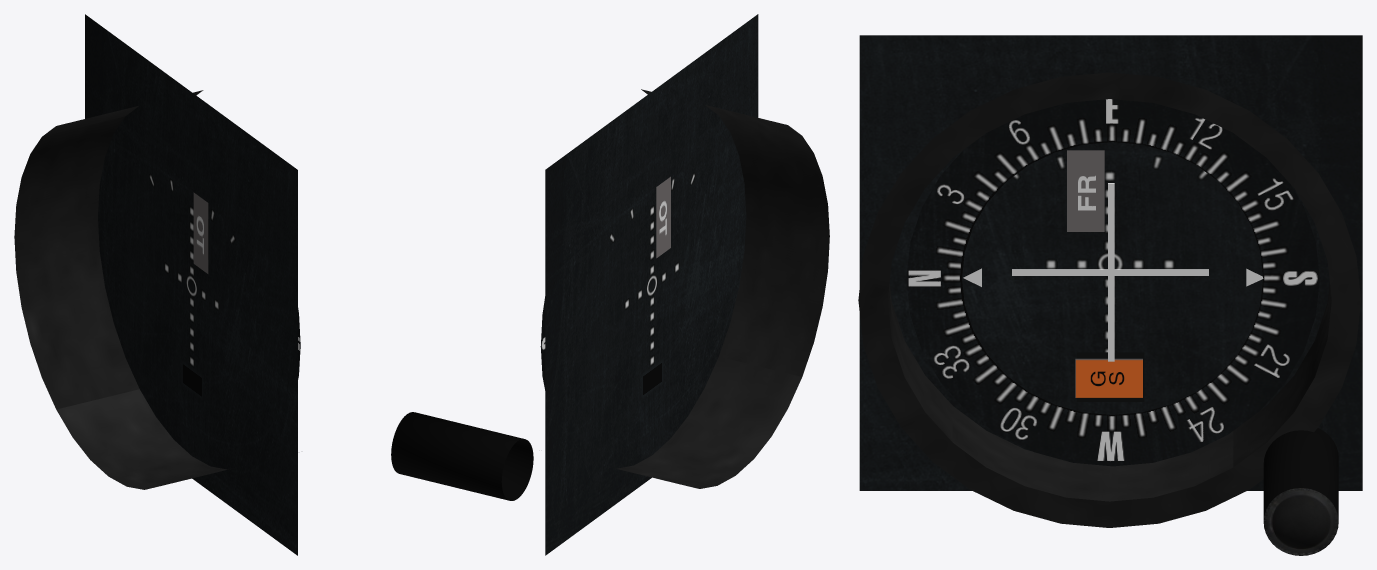
Rendered from vor2.gltf.
The picture shows the model from 3 angles, left to right: view 1: azimuth 30°, elevation 25°; view 2: azimuth 150°, elevation 25°; view 3: azimuth 270°, elevation 25°; orthographic projection. The views are drawn at different scales.
Parts seen in each view (by area): view 1: Face, Case, TO; view 2: Face, Case, disk, TO; view 3: Face, Ring, Case, disk, FR, GS_out_of_range, LocalizerNeedle, GlideslopeNeedle, GS_in_range.
Boxes of the visible parts, x1,y1,x2,y2 form: Face: (85,14,297,555); Case: (14,90,228,489); TO: (193,192,208,273); Face: (545,14,758,555); Case: (616,89,829,488); disk: (391,412,533,500); TO: (656,176,670,258); Face: (859,35,1362,490); Ring: (906,99,1319,466); Case: (858,72,1360,527); disk: (1263,428,1338,555); FR: (1067,150,1104,231); GS_out_of_range: (1075,358,1142,397); LocalizerNeedle: (1012,269,1208,275); GlideslopeNeedle: (1108,183,1114,361); GS_in_range: (1076,352,1144,401).
Bounding box in the file's own units: 0.0537 × 0.0801 × 0.0802.
5 materials, 4 textured.
